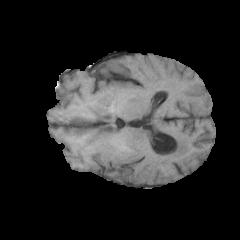glioma: (78, 129, 188, 182)
